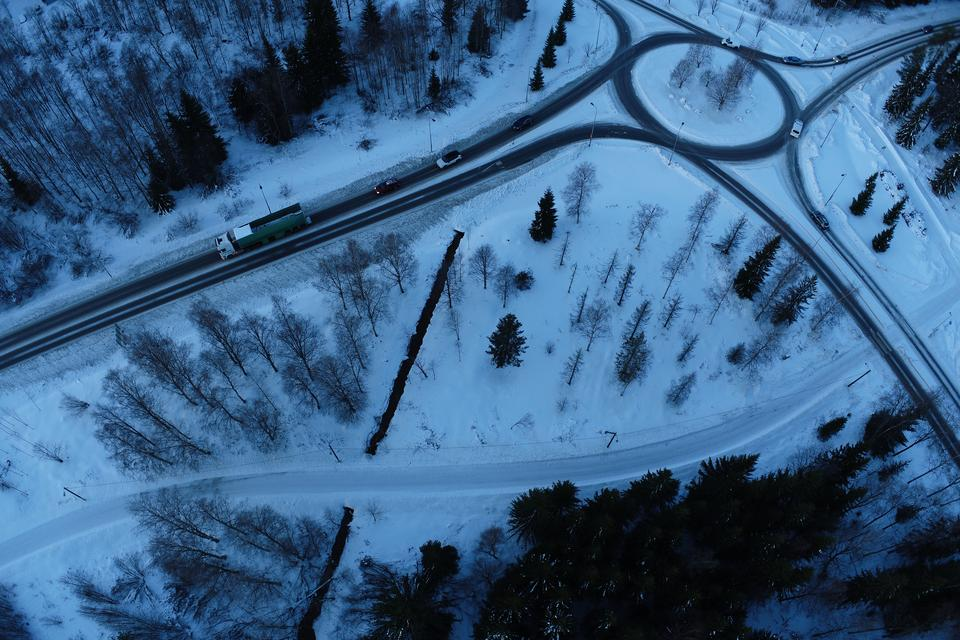intersection: (860, 292, 934, 378)
roundabout: (571, 0, 833, 193)
